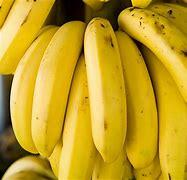banana: (10, 28, 81, 151), (111, 22, 162, 172), (56, 47, 107, 180), (84, 13, 128, 160), (120, 0, 187, 86)
